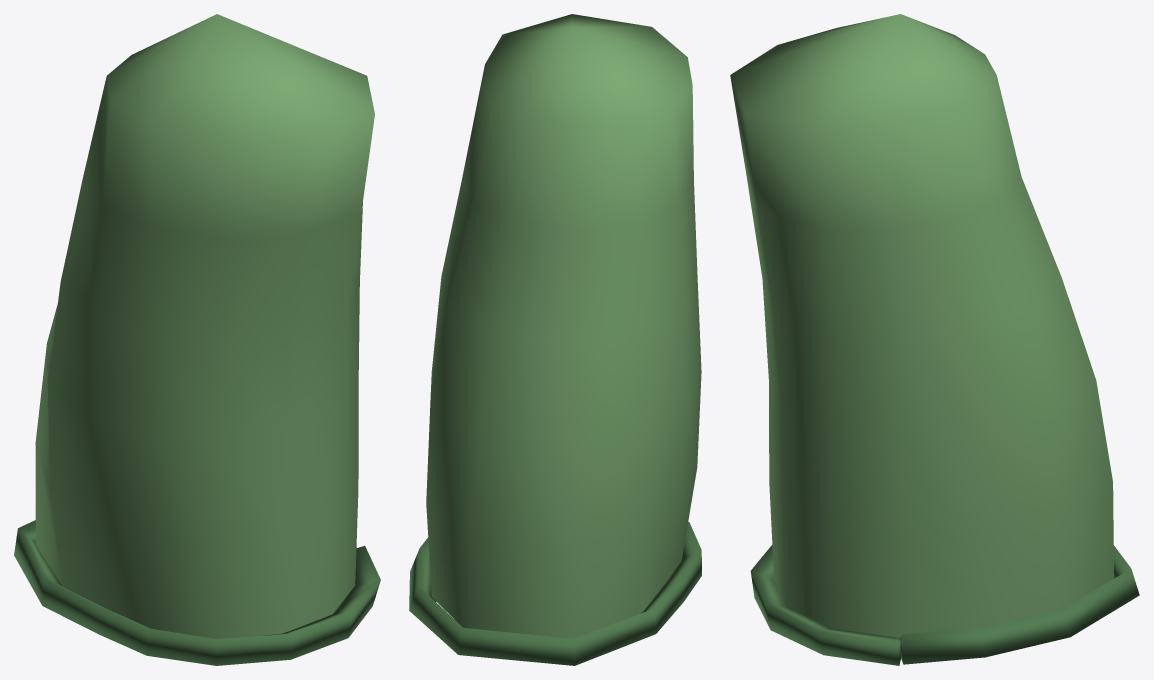
The model's file is tungsten_armor_boot.L.glb.
3 views of the same model, side by side, from view 1: azimuth 30°, elevation 25°; view 2: azimuth 150°, elevation 25°; view 3: azimuth 270°, elevation 25° (orthographic). The views are drawn at different scales.
Visible parts, largest first — view 1: tungsten_armor_boot.L; view 2: tungsten_armor_boot.L; view 3: tungsten_armor_boot.L.
Boxes of the visible parts, bbox=[...] form: tungsten_armor_boot.L: bbox=[14, 14, 380, 665]; tungsten_armor_boot.L: bbox=[409, 14, 701, 665]; tungsten_armor_boot.L: bbox=[730, 14, 1139, 665].
Bounding box in the file's own units: 0.1461 × 0.2958 × 0.1877.
